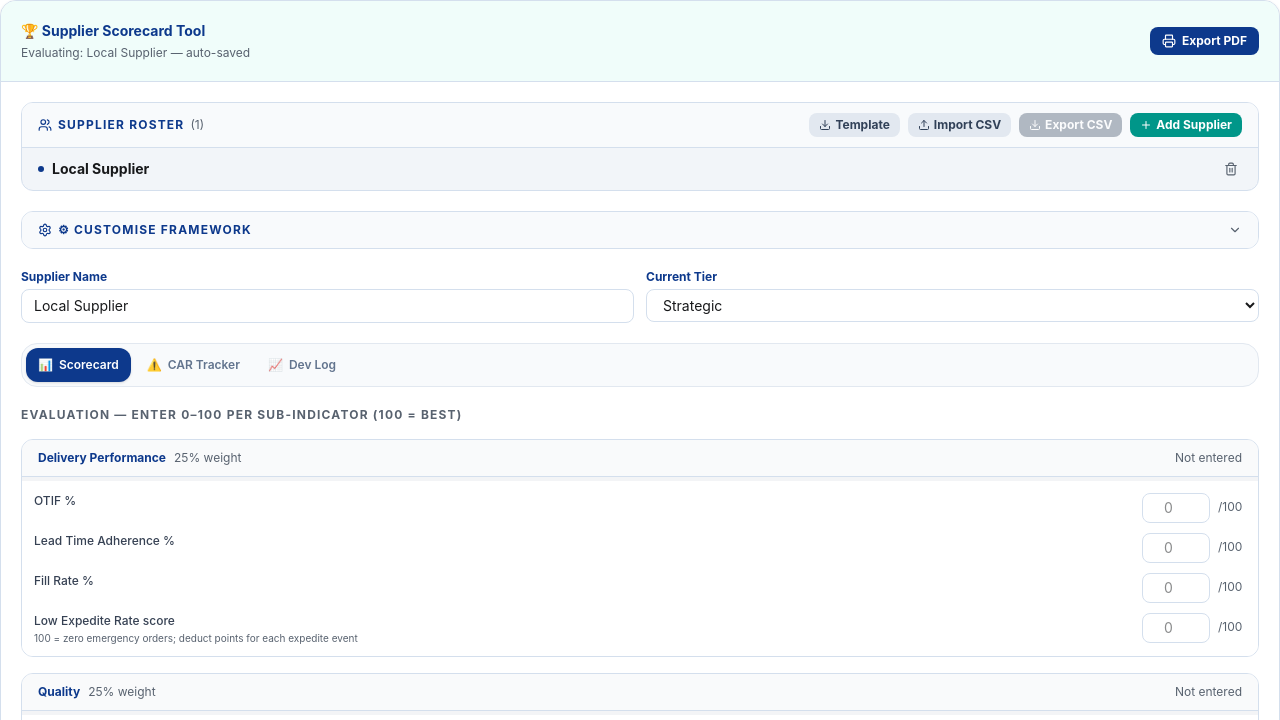
it: sync status › shows "Could not sync" after the debounced PUT returns a non-ok response
Click the text "Local Supplier" at (101, 169), box [52,159,149,179]
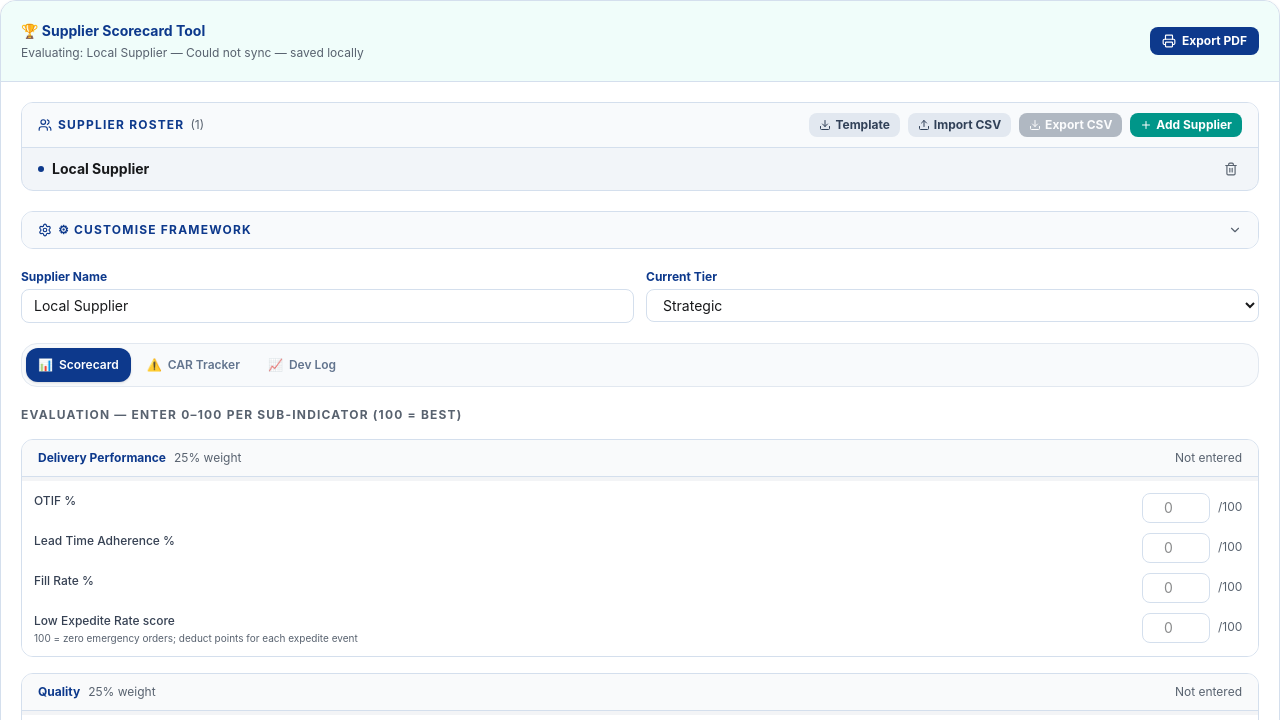
expect the text "Evaluating: Local Supplier — Could not sync — saved locally" is shown: met, box [21,45,364,61]
